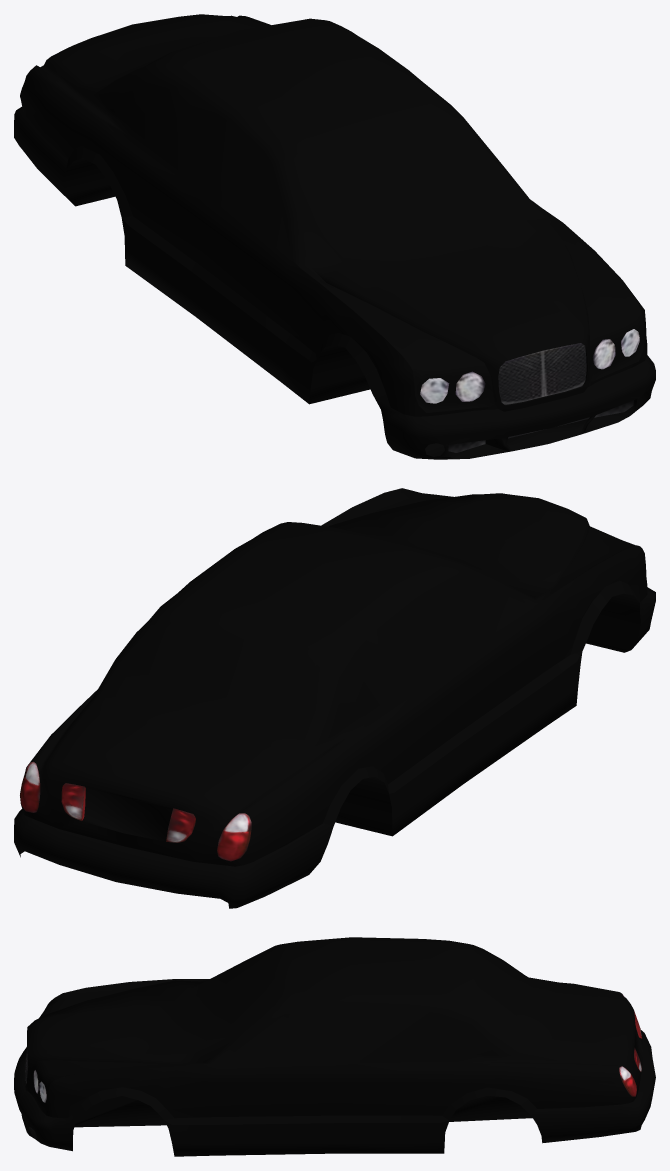
The model's file is RoyalSedan.fbx.
3 renders of one model, top to bottom at view 1: azimuth 30°, elevation 25°; view 2: azimuth 150°, elevation 25°; view 3: azimuth 270°, elevation 25°, orthographic. The views are drawn at different scales.
Visible parts, largest first — view 1: Plane; view 2: Plane; view 3: Plane.
Boxes of the visible parts, bbox=[...] form: Plane: bbox=[14, 14, 655, 459]; Plane: bbox=[14, 488, 655, 908]; Plane: bbox=[14, 937, 655, 1156].
Bounding box in the file's own units: 118 × 84.35 × 334.
3 materials, 1 textured.
